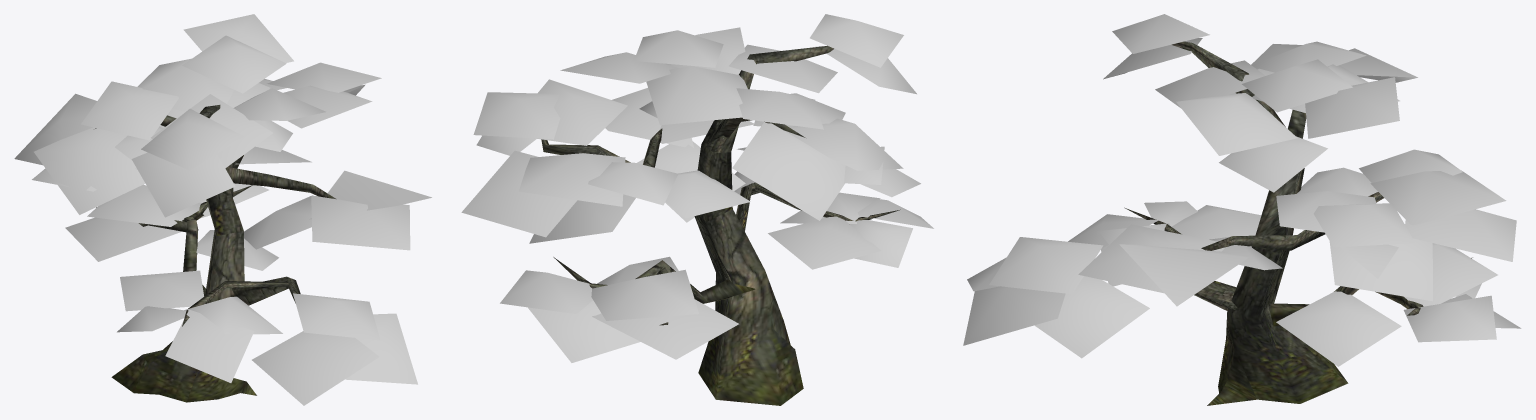
The model's file is GYMS00077.FBX.
The picture shows the model from 3 angles, left to right: view 1: azimuth 30°, elevation 25°; view 2: azimuth 150°, elevation 25°; view 3: azimuth 270°, elevation 25°; orthographic projection. The views are drawn at different scales.
Visible parts, largest first — view 1: MS00077; view 2: MS00077; view 3: MS00077.
Boxes of the visible parts, <box> form: MS00077: <box>14,14,431,405</box>; MS00077: <box>461,14,933,405</box>; MS00077: <box>963,14,1521,405</box>.
Size of the model in its own units: 4.93 by 4.13 by 5.96.
